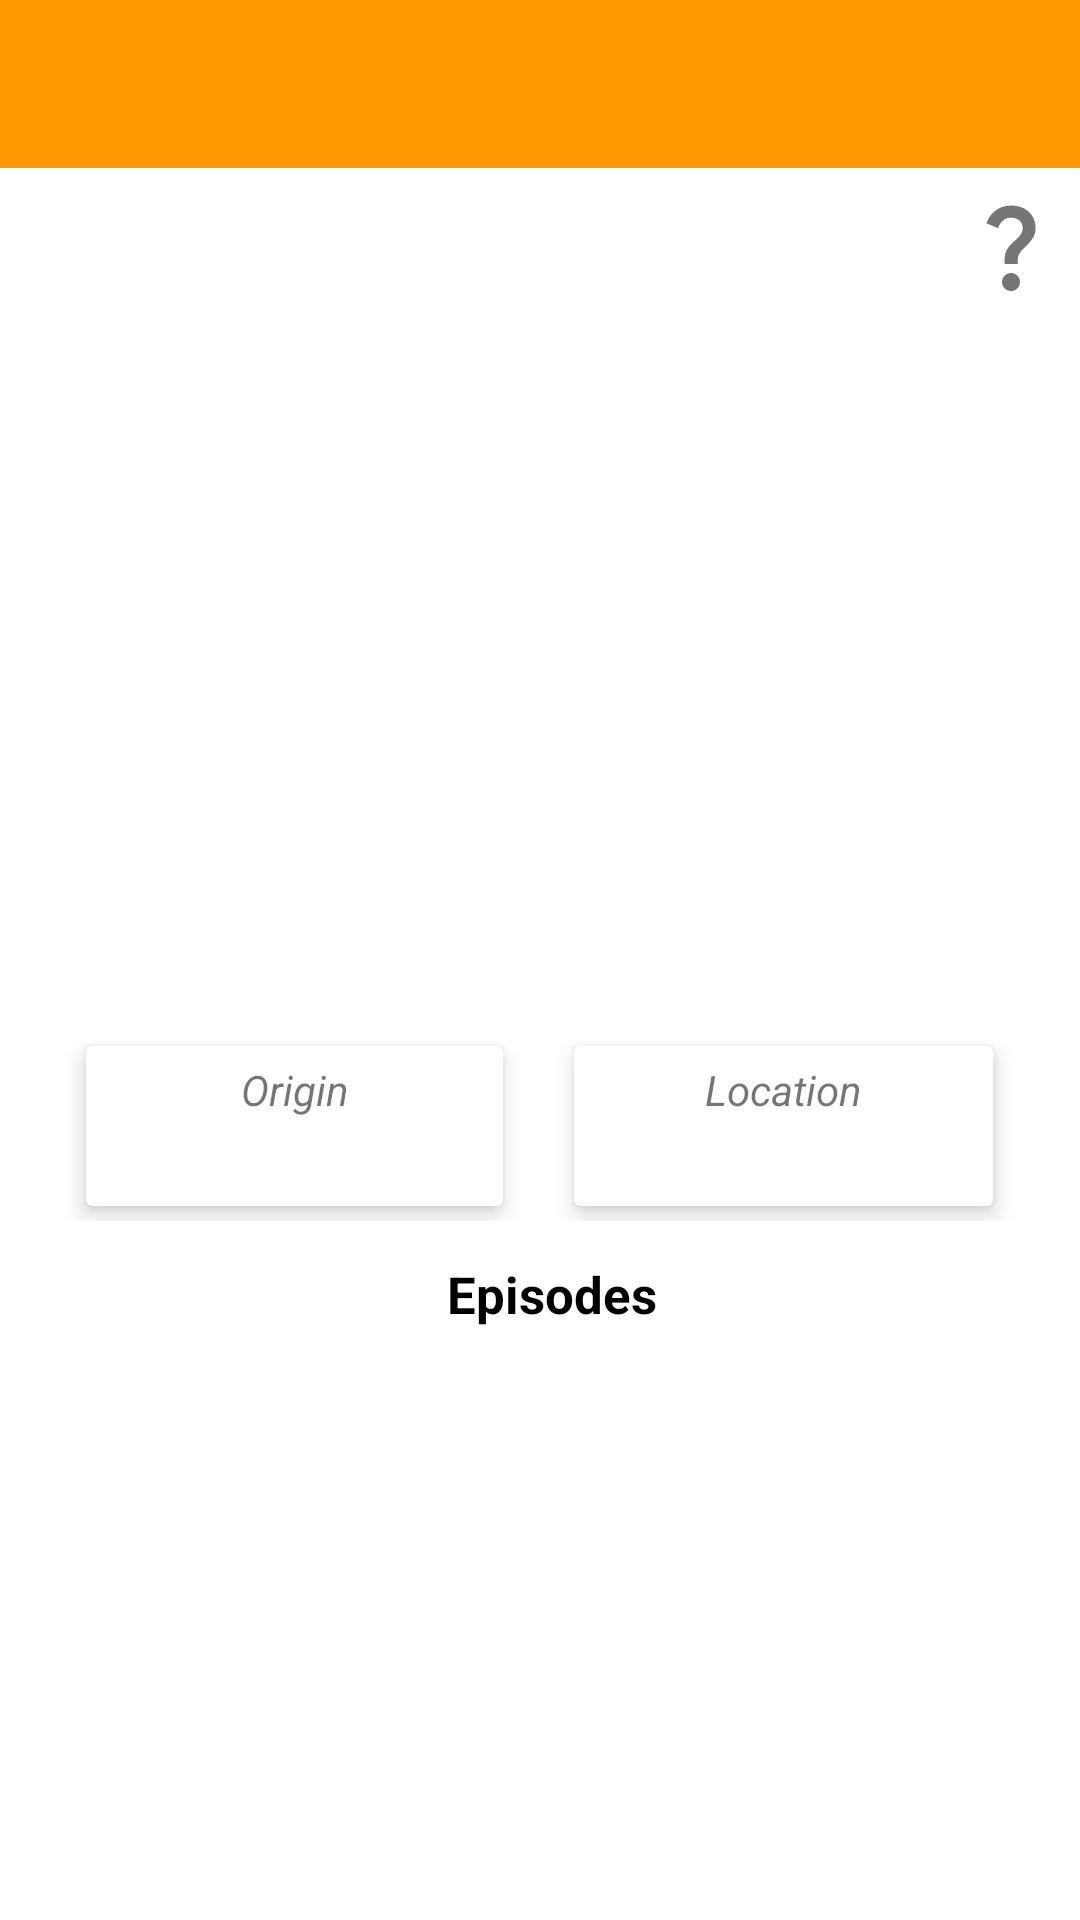

Icon click points for this 1080*1920 phone screenshot, format (x,y):
question mark: (1011,248)
